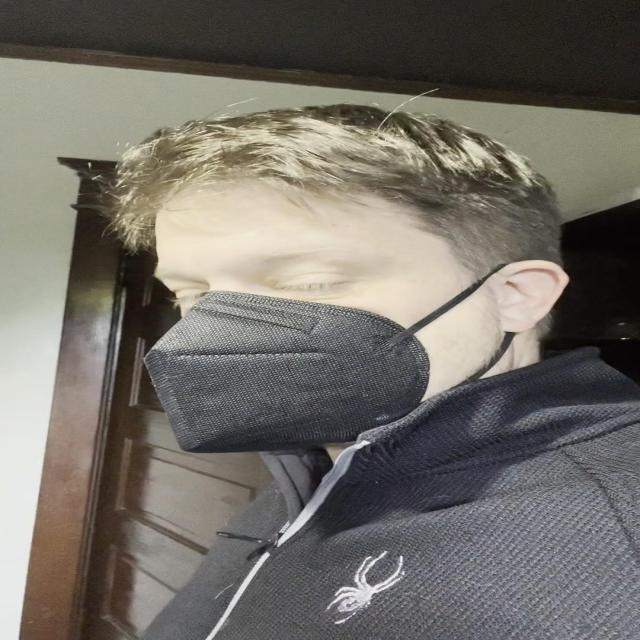no-helmet: (148, 182, 484, 453)
